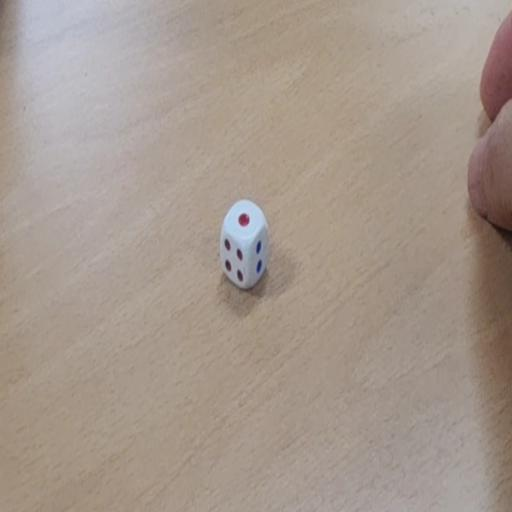dice_1: (219, 197, 270, 294)
